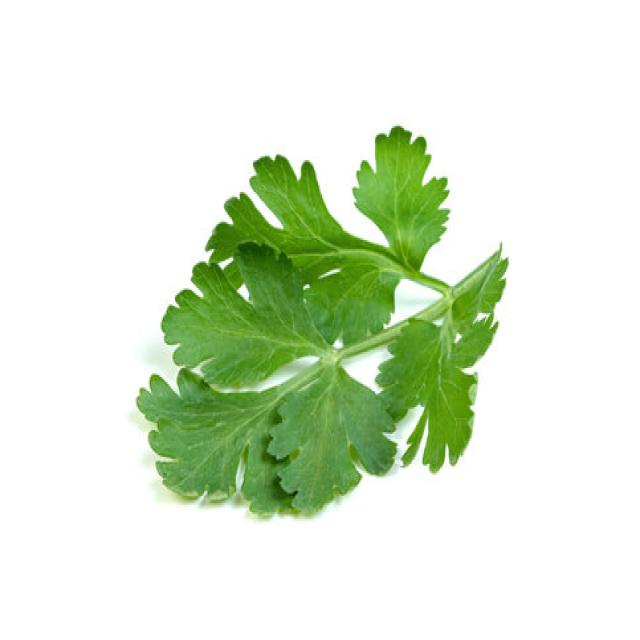Coriander Leaves: (135, 123, 508, 519)
